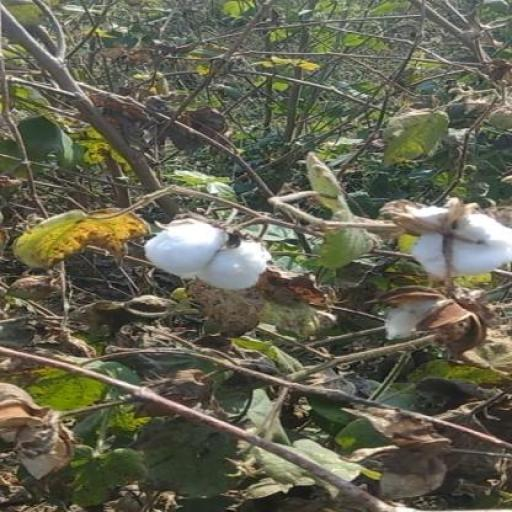cotton_ready: (372, 202, 504, 283), (150, 220, 273, 306)
